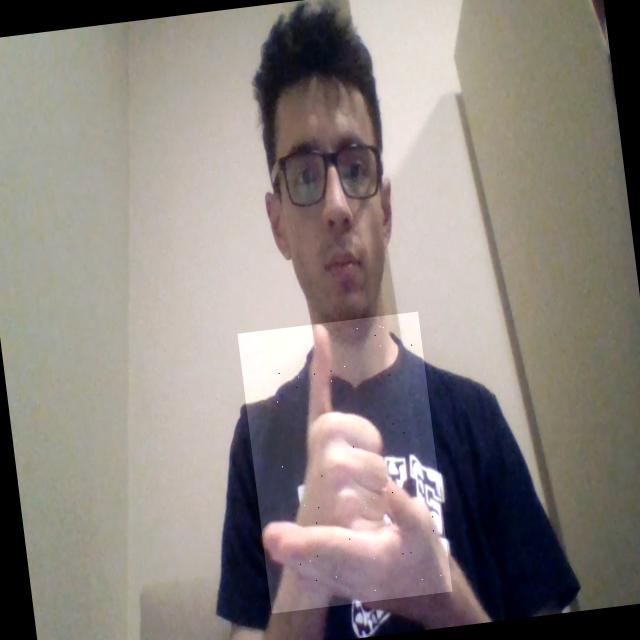help: (237, 311, 452, 613)
